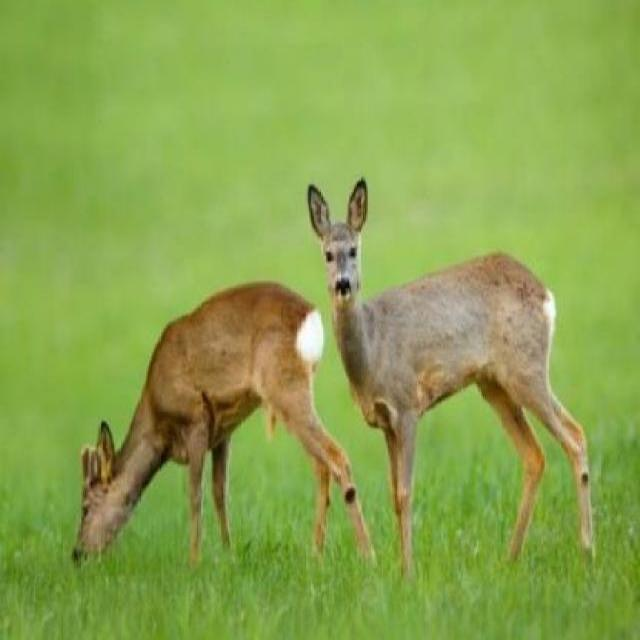deer: (66, 281, 306, 568), (302, 174, 556, 422)
